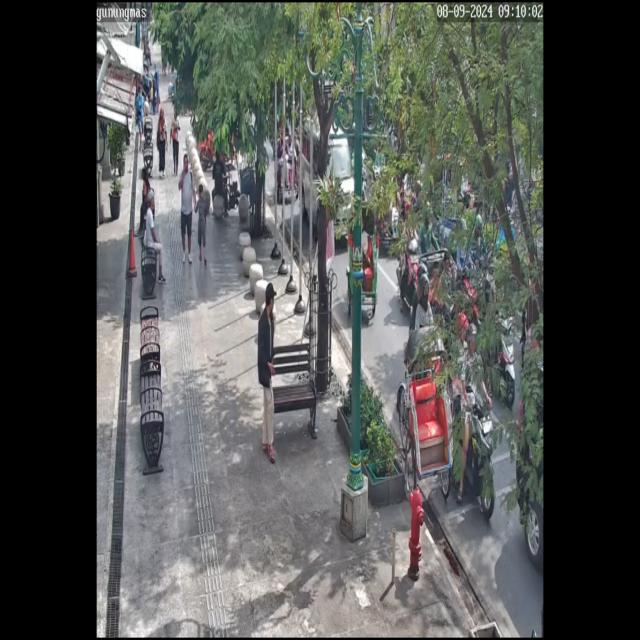Car: (298, 104, 360, 250)
Motorcycle: (450, 320, 505, 536)
